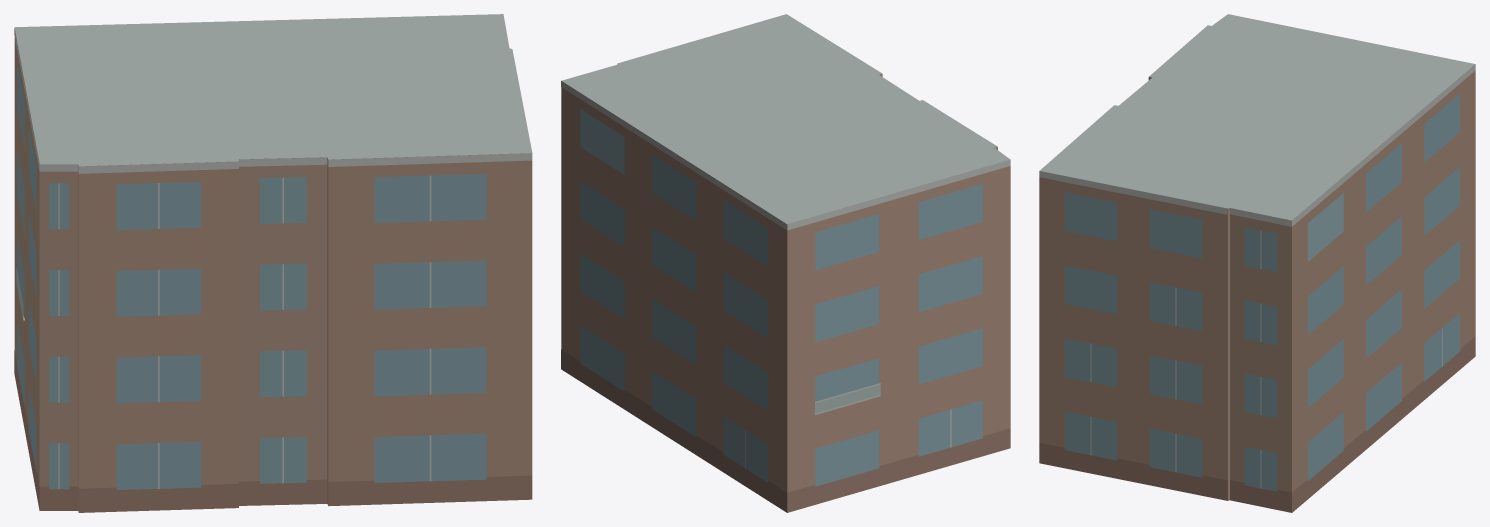
File: survey-upis-32998849.glb
3 views of the same model, side by side, from view 1: azimuth 30°, elevation 25°; view 2: azimuth 150°, elevation 25°; view 3: azimuth 270°, elevation 25° (orthographic). The views are drawn at different scales.
Parts seen in each view (by area): view 1: survey-upis-32998849.tmp; view 2: survey-upis-32998849.tmp; view 3: survey-upis-32998849.tmp.
Boxes of the visible parts, x1,y1,x2,y2 form: survey-upis-32998849.tmp: (14,14,532,512); survey-upis-32998849.tmp: (561,14,1010,512); survey-upis-32998849.tmp: (1039,14,1475,512).
Size of the model in its own units: 17.13 by 11.3 by 15.29.
